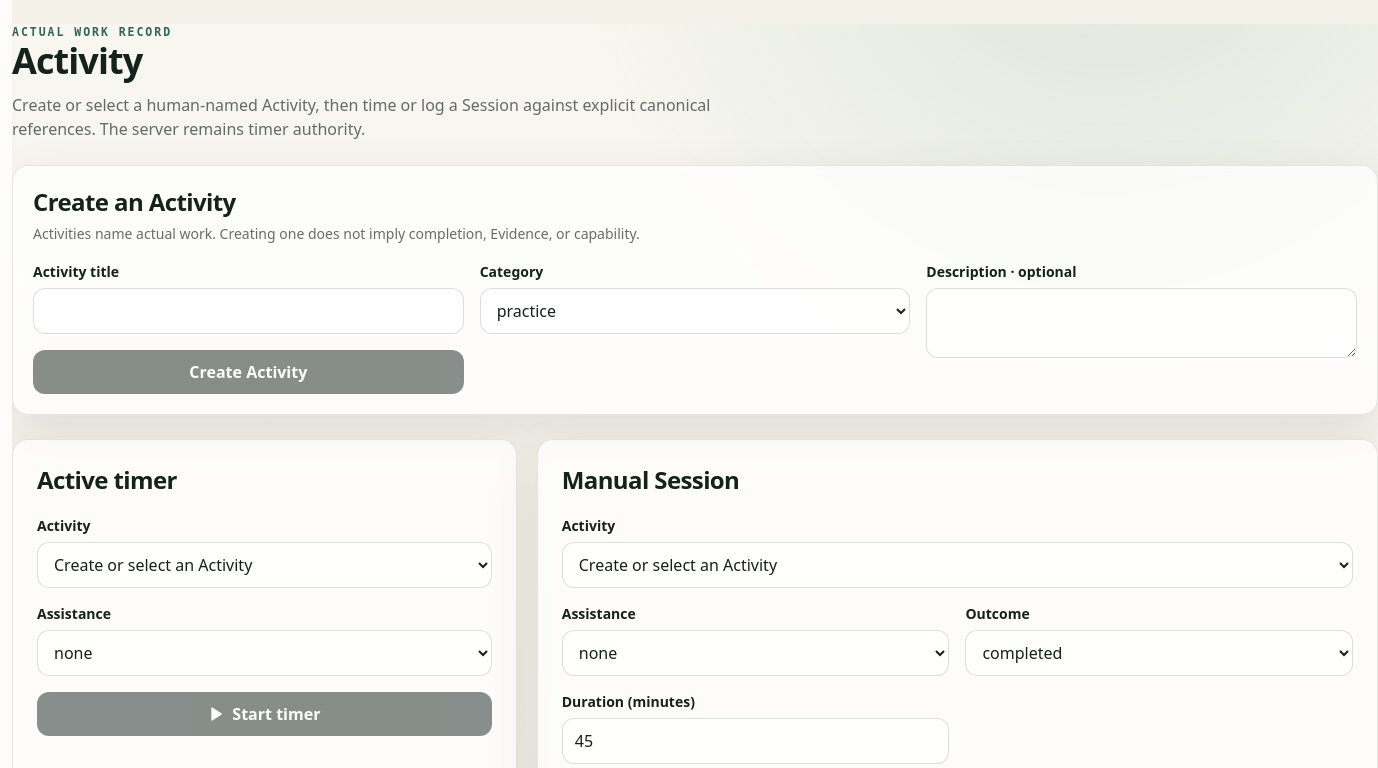
Test case: V2 Activity handoff › preserves empty-state Activity input and controls after a create failure
In the field labelled "Activity title": [248, 311] box [33,288,464,334], type "Keep this draft"
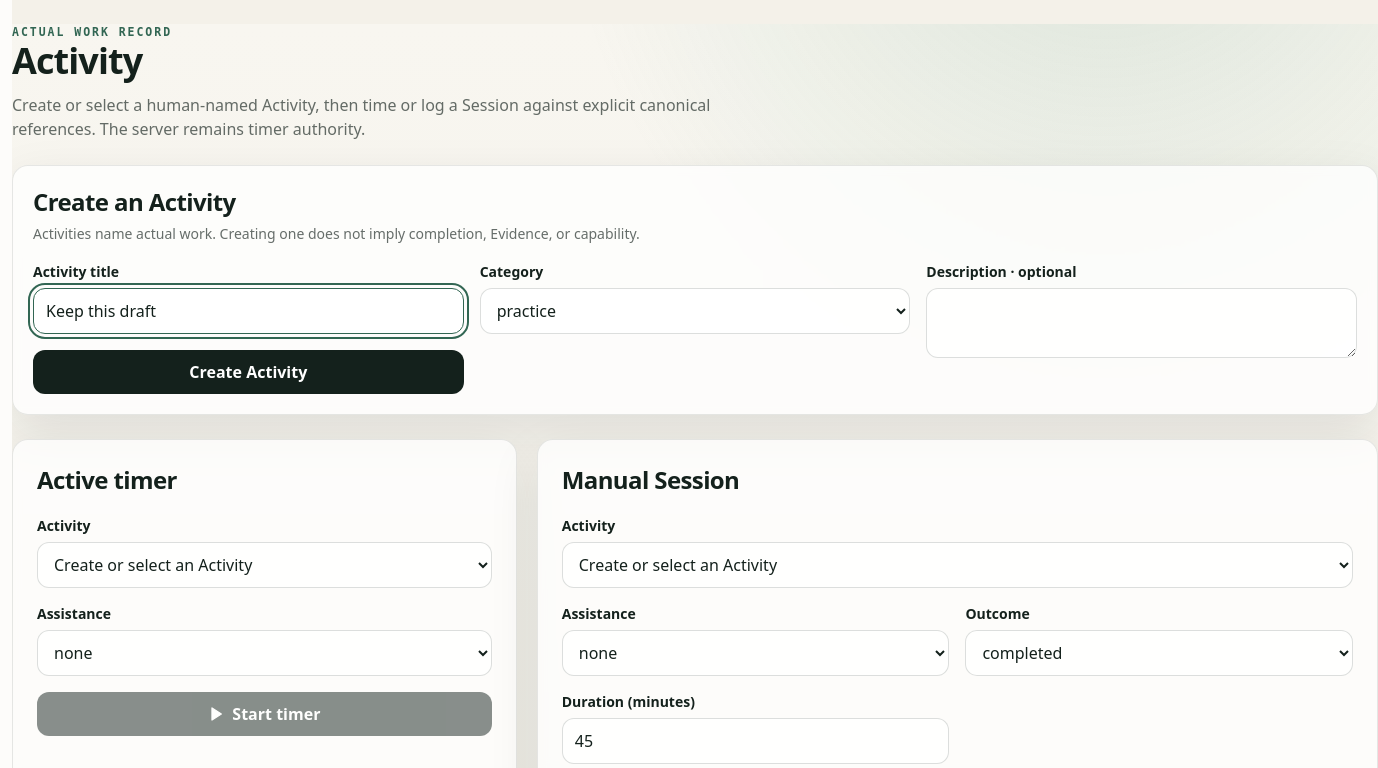
Click the button "Create Activity": [248, 372] box [33,350,464,394]
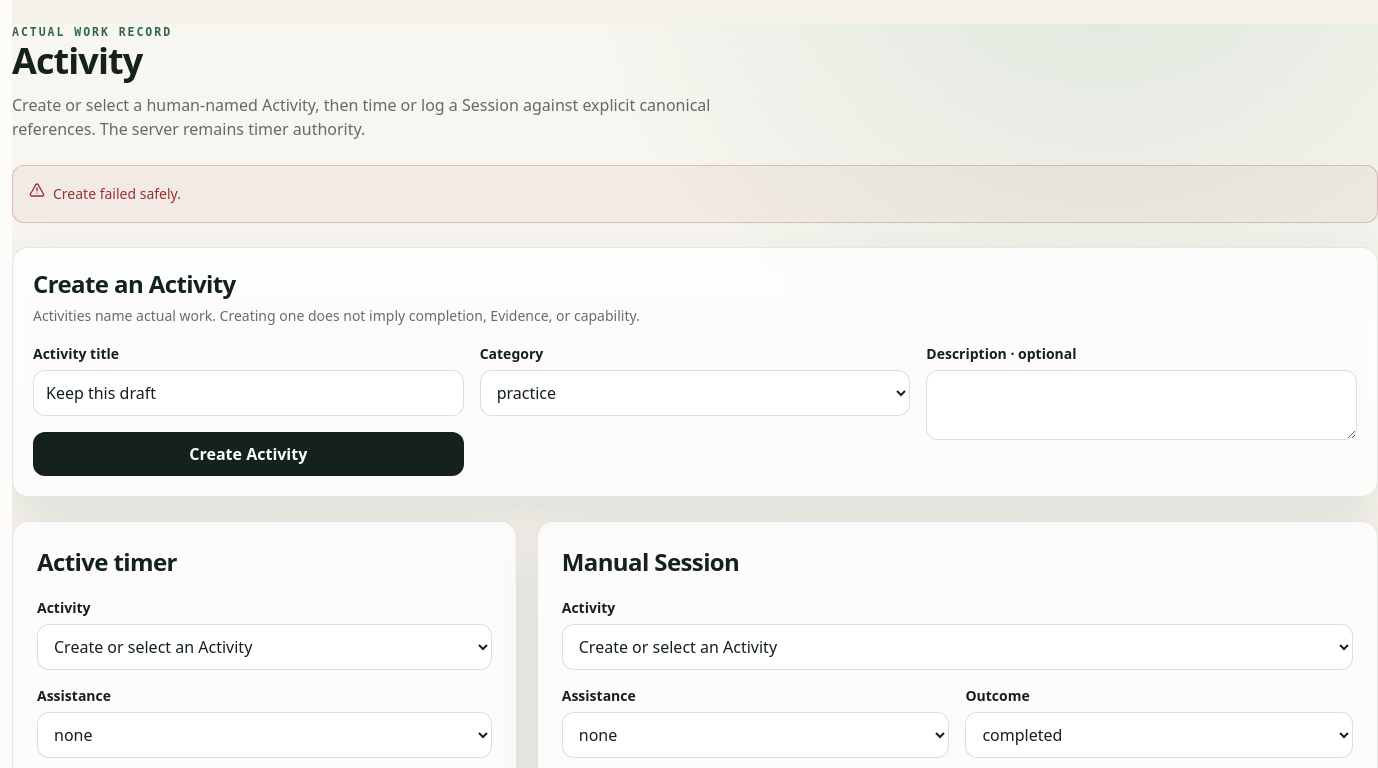
expect the button "Create Activity" is enabled: met, box [33,432,464,476]
expect the message reads "Create failed safely.": met, box [53,184,181,203]
